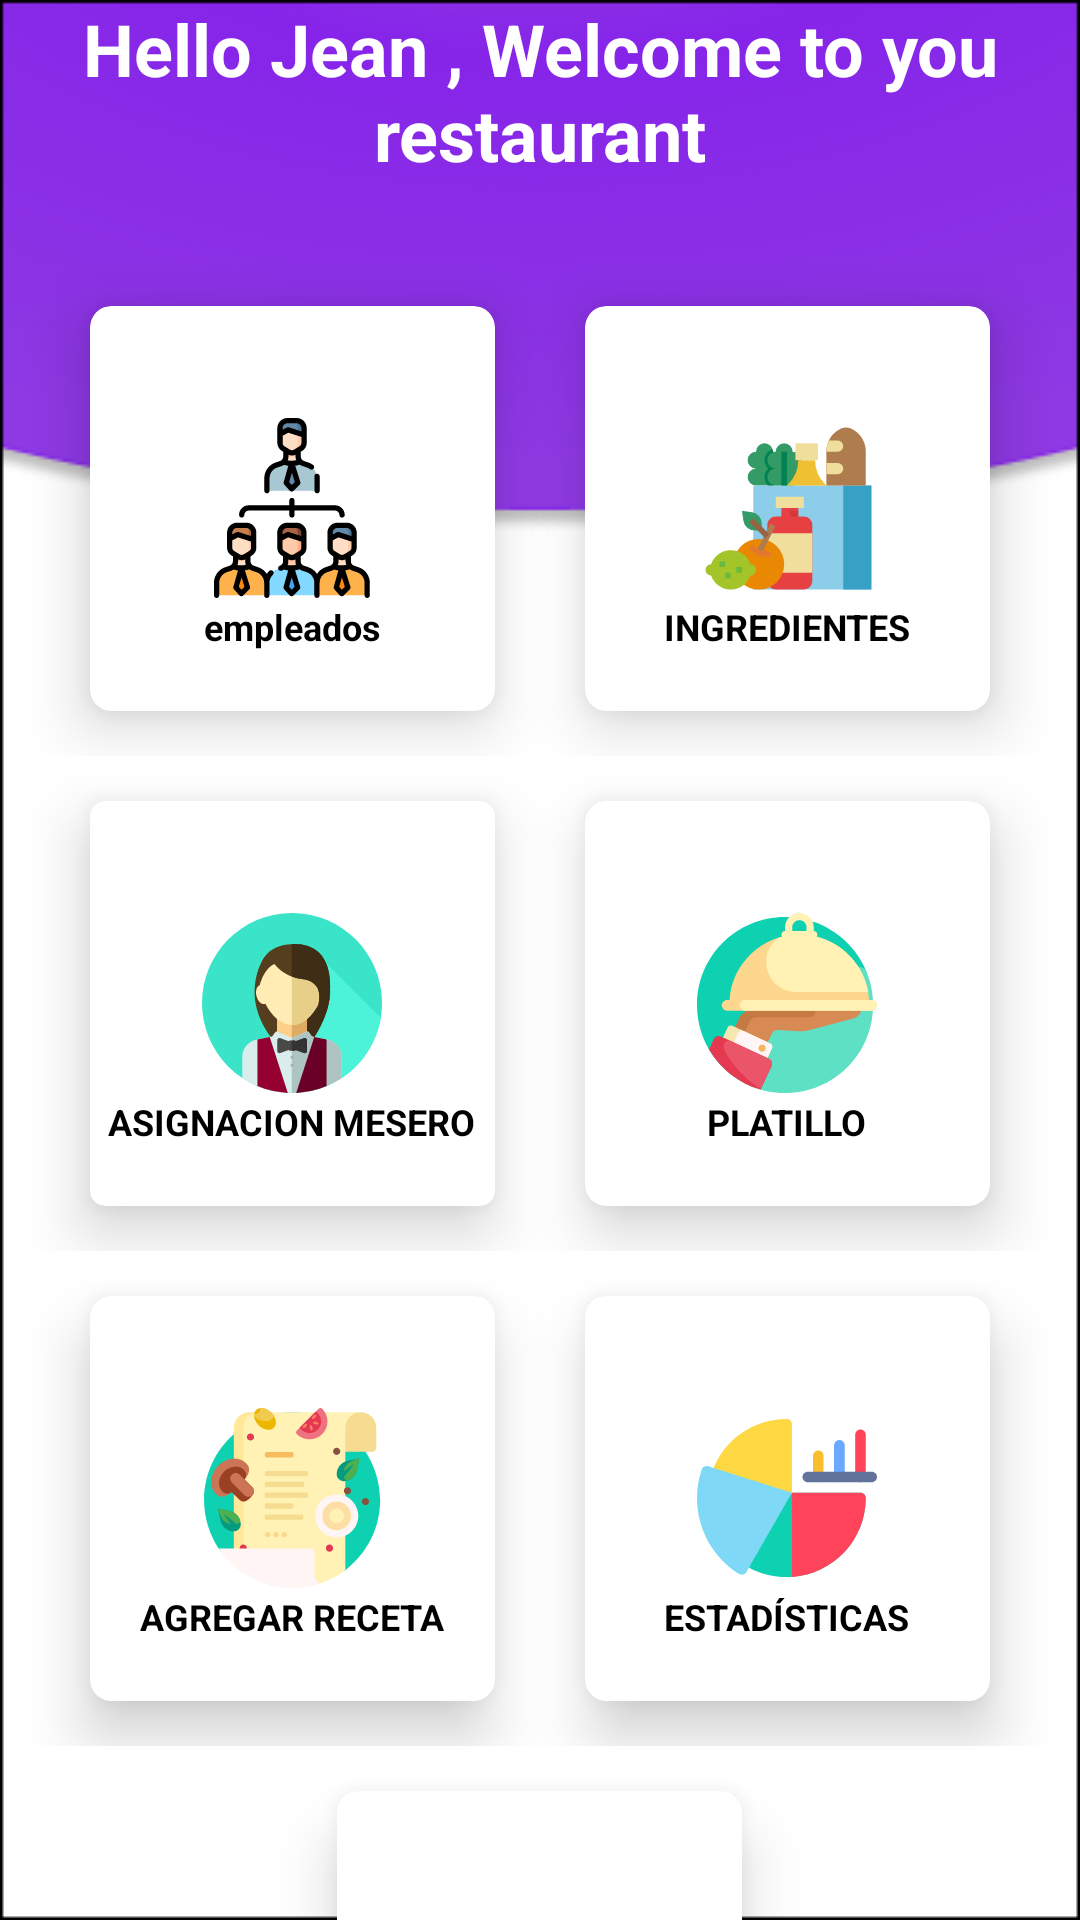

Where to tap for icons on this 1080×1920 app screen, as [x,y]:
grafico: [787,1498]
grocery: [788,508]
team management: [292,508]
